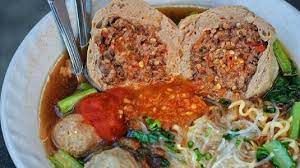bakso: (45, 1, 299, 168)
